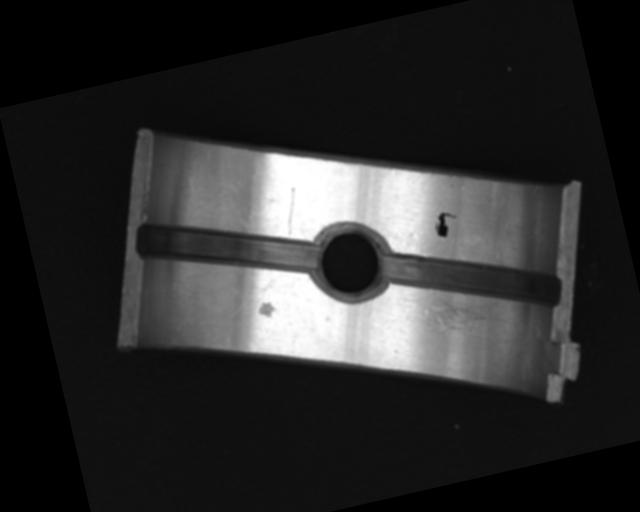blot: (431, 208, 462, 240)
bruise: (256, 298, 279, 321)
gap: (378, 219, 565, 341)
hole: (133, 187, 324, 309), (306, 215, 396, 304)
nick: (277, 186, 306, 238)
scratch: (401, 272, 505, 342)
